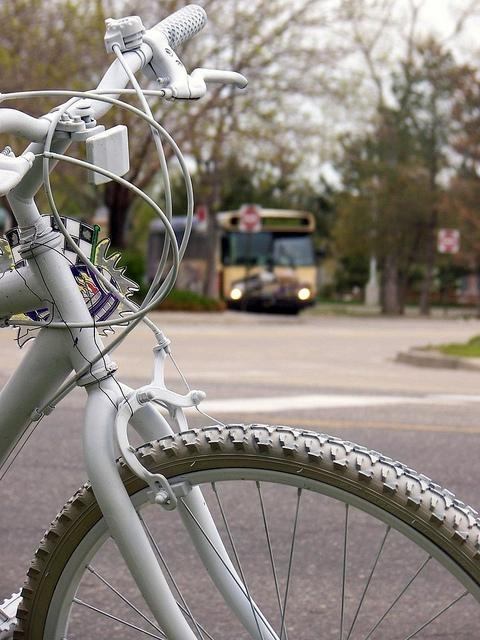bicycle: (0, 0, 480, 640)
bus: (147, 210, 316, 316)
